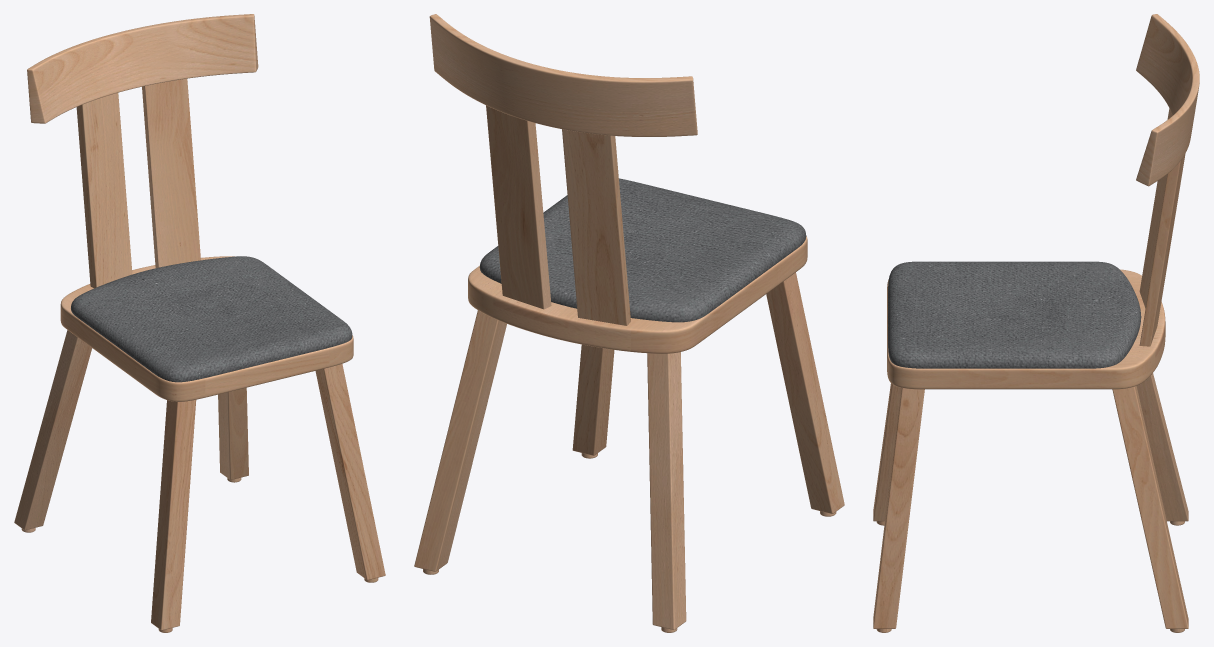
The model's file is chair.obj.
The picture shows the model from 3 angles, left to right: view 1: azimuth 30°, elevation 25°; view 2: azimuth 150°, elevation 25°; view 3: azimuth 270°, elevation 25°; orthographic projection. The views are drawn at different scales.
Parts seen in each view (by area): view 1: Obj3d66_512024_1_420; view 2: Obj3d66_512024_1_420; view 3: Obj3d66_512024_1_420.
Part boxes in pixels (x1,y1,x2,y2): Obj3d66_512024_1_420: (14,14,385,632); Obj3d66_512024_1_420: (414,14,844,632); Obj3d66_512024_1_420: (873,14,1199,632).
Size of the model in its own units: 16.5 by 32.69 by 19.21.
